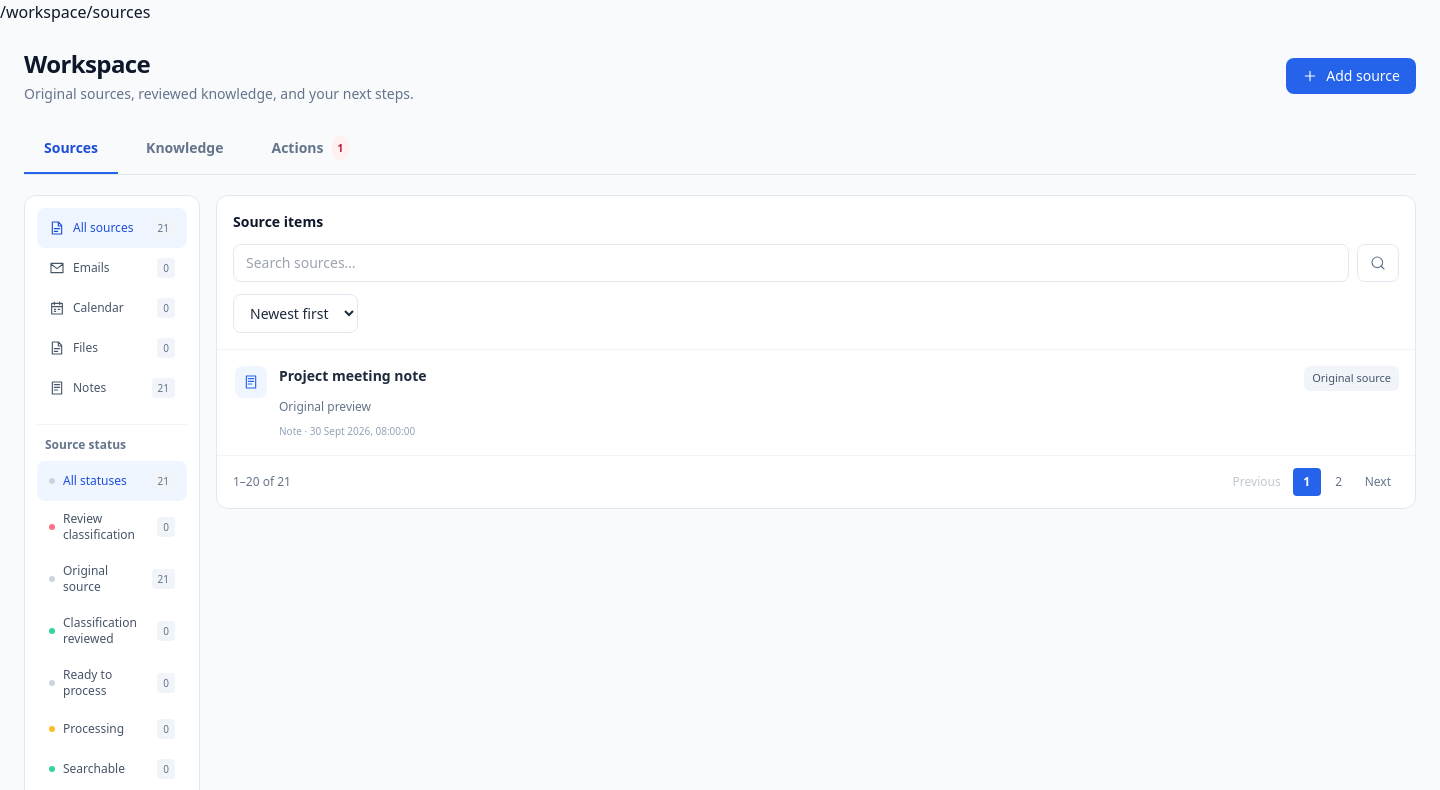
Test: Workspace browser › opens Add source as a dialog and saves a manual note only on submit
This screenshot has width=1440, height=790.
Expected: the button "Project meeting note" is shown, [217, 350, 1415, 455]
Expected: the field labelled "Content" is not shown
Click the button "Add source".
click(1351, 76)  # box [1286, 58, 1416, 94]
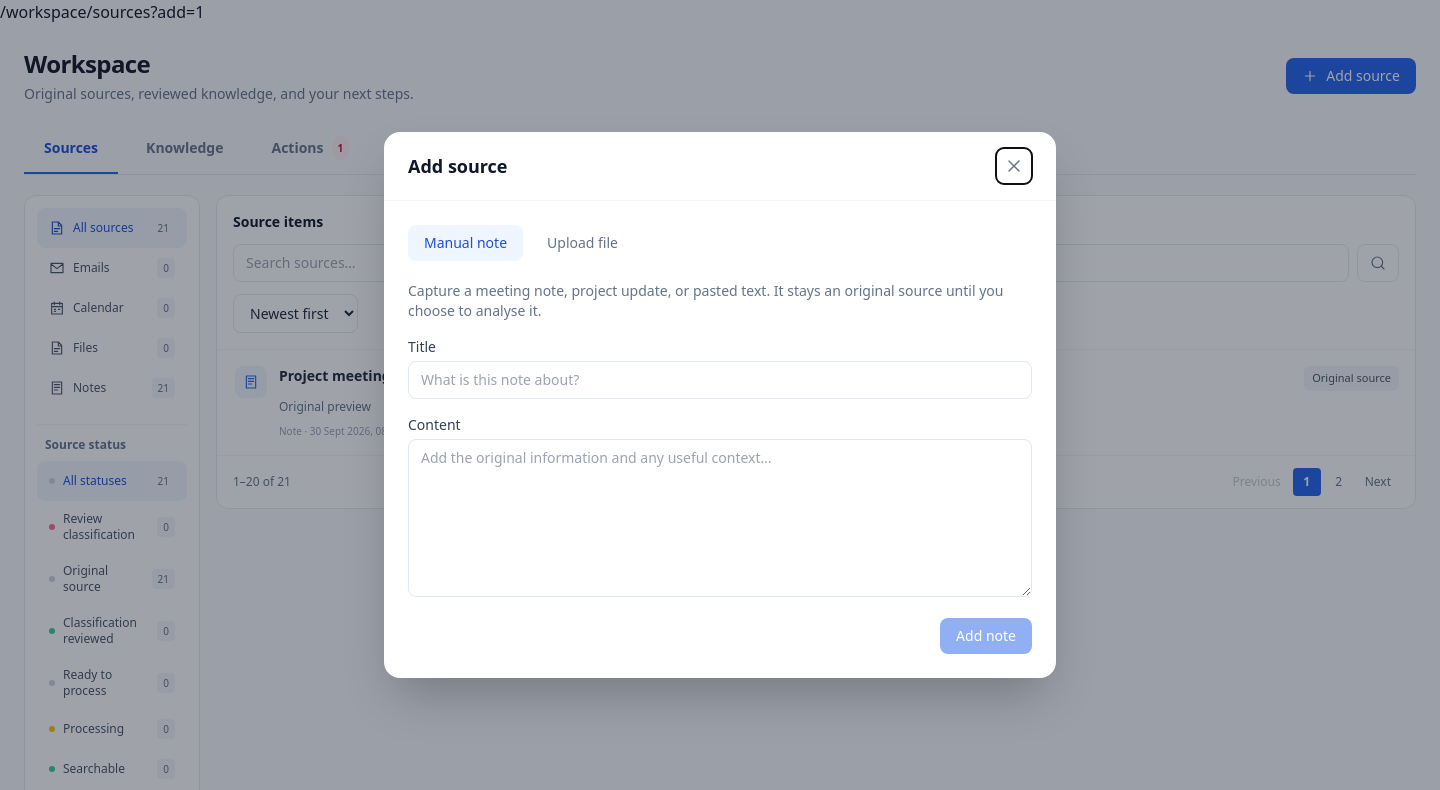
Type "A new note" into the field labelled "Title".
click(720, 380); type("A new note")  # box [408, 361, 1032, 399]
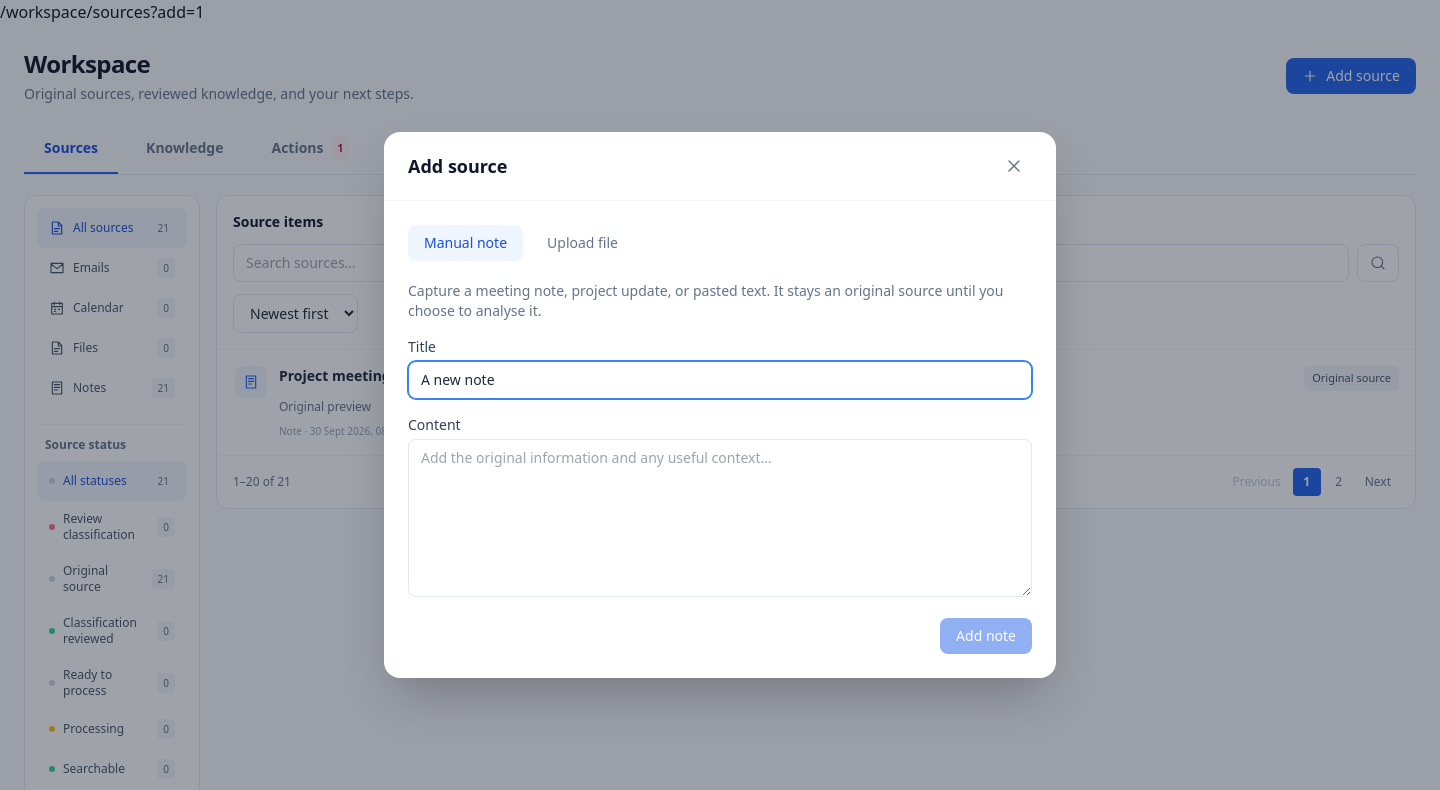
Type "User-entered content" into the text box labelled "Content".
click(720, 518); type("User-entered content")  # box [408, 439, 1032, 597]
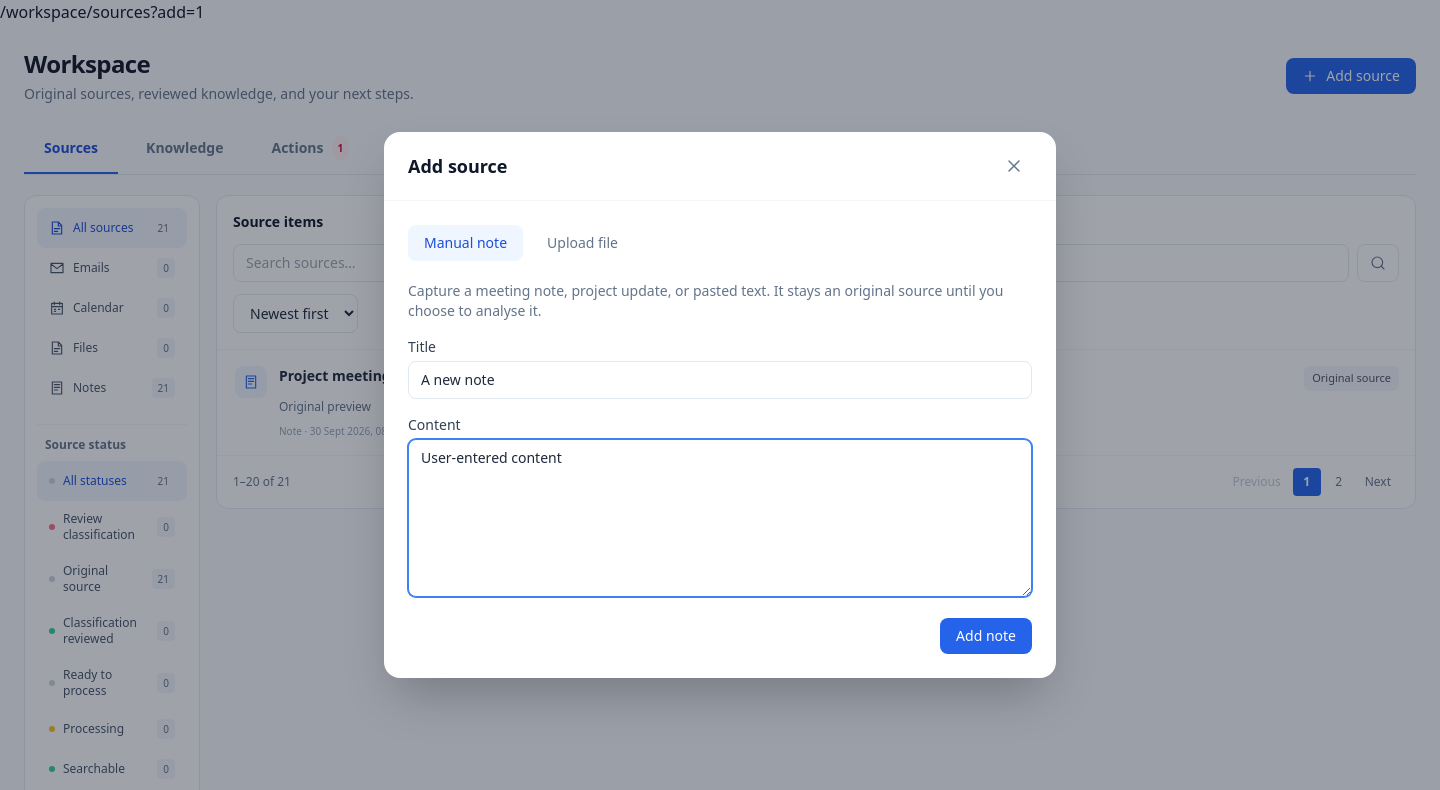
Click the button "Add note".
click(986, 636)  # box [940, 618, 1032, 654]
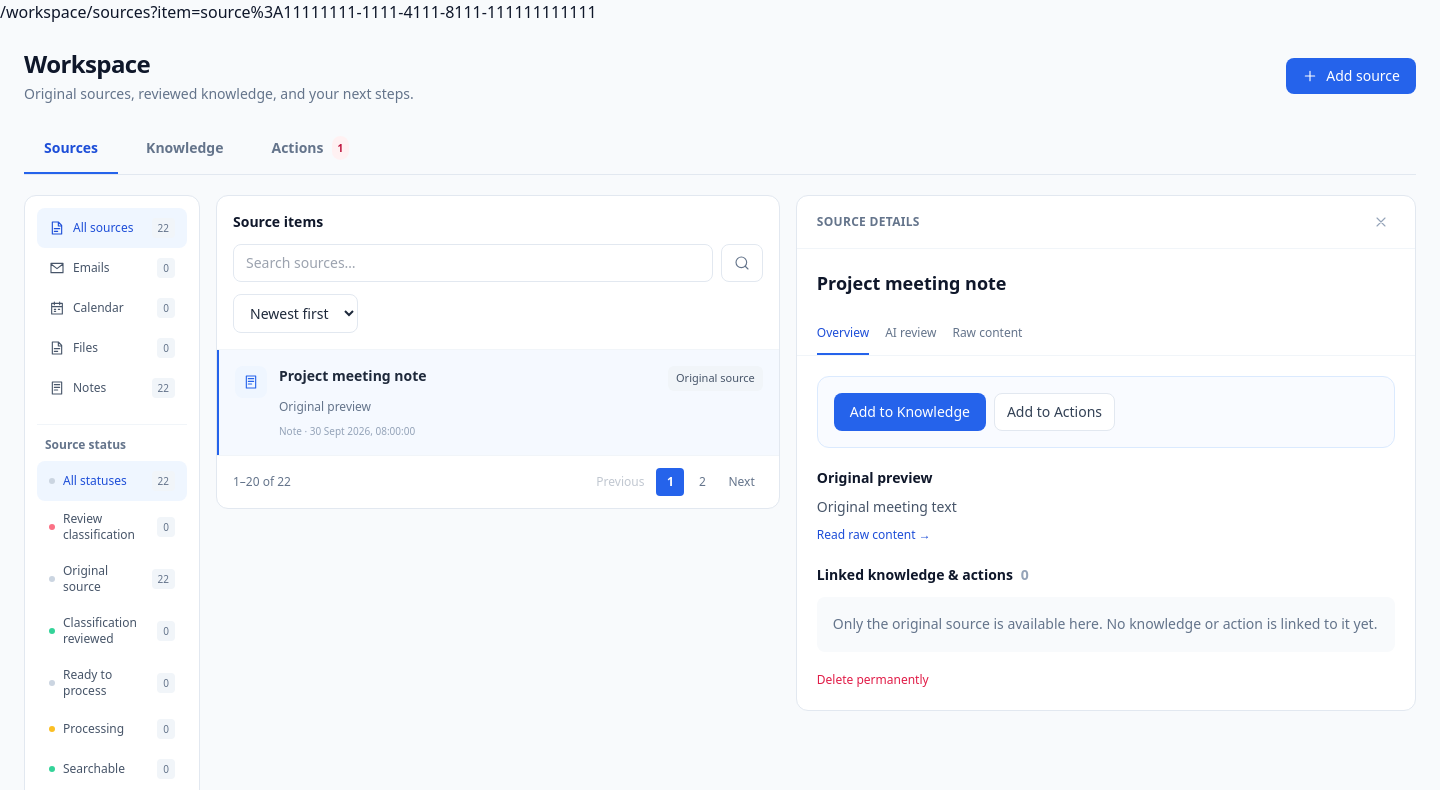
Result: the dialog is gone
Result: the heading "Project meeting note" is shown at [817, 271, 1006, 295]
Result: the text "1–20 of 22" is shown at [233, 474, 291, 490]
